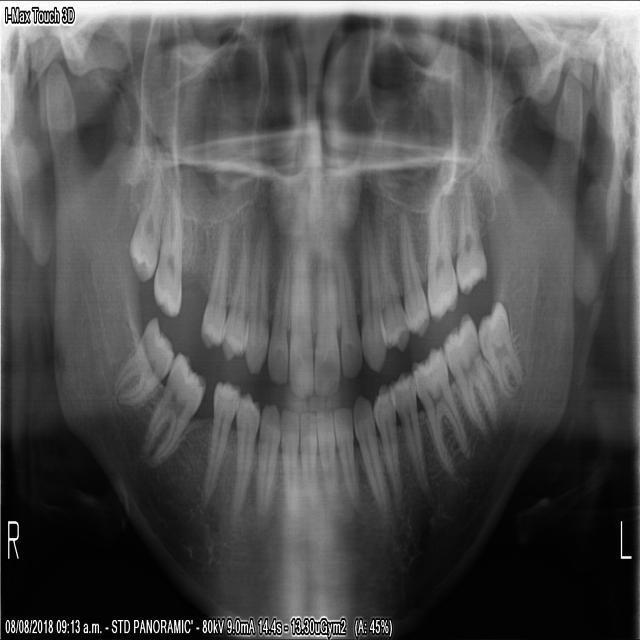LCD: (354, 395, 389, 510)
LCU: (359, 210, 389, 370)
LID: (334, 402, 359, 510), (317, 410, 340, 505)
LIU: (314, 237, 342, 397), (334, 242, 362, 380)
LMD: (411, 343, 470, 475), (443, 310, 500, 435), (478, 294, 524, 398)
LMU: (424, 184, 460, 327), (456, 170, 490, 302)
LPMD: (391, 369, 430, 497), (374, 382, 402, 493)
LPMU: (374, 210, 411, 359), (398, 200, 432, 340)
RCD: (254, 404, 281, 518)
RCU: (245, 209, 270, 382)
RID: (280, 408, 303, 523), (299, 410, 321, 522)
RIU: (288, 233, 315, 402), (267, 242, 288, 385)
RMD: (140, 344, 207, 473), (111, 314, 176, 412)
RMU: (123, 168, 165, 289), (149, 177, 184, 319)
RPMD: (202, 375, 240, 500), (231, 394, 260, 520)
RPMU: (196, 215, 231, 355), (221, 220, 251, 369)
